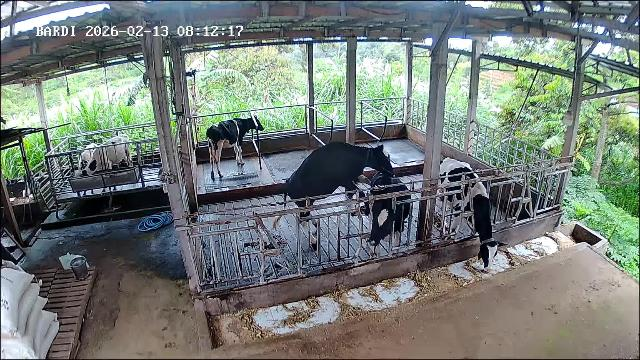mounting: (283, 138, 395, 240)
